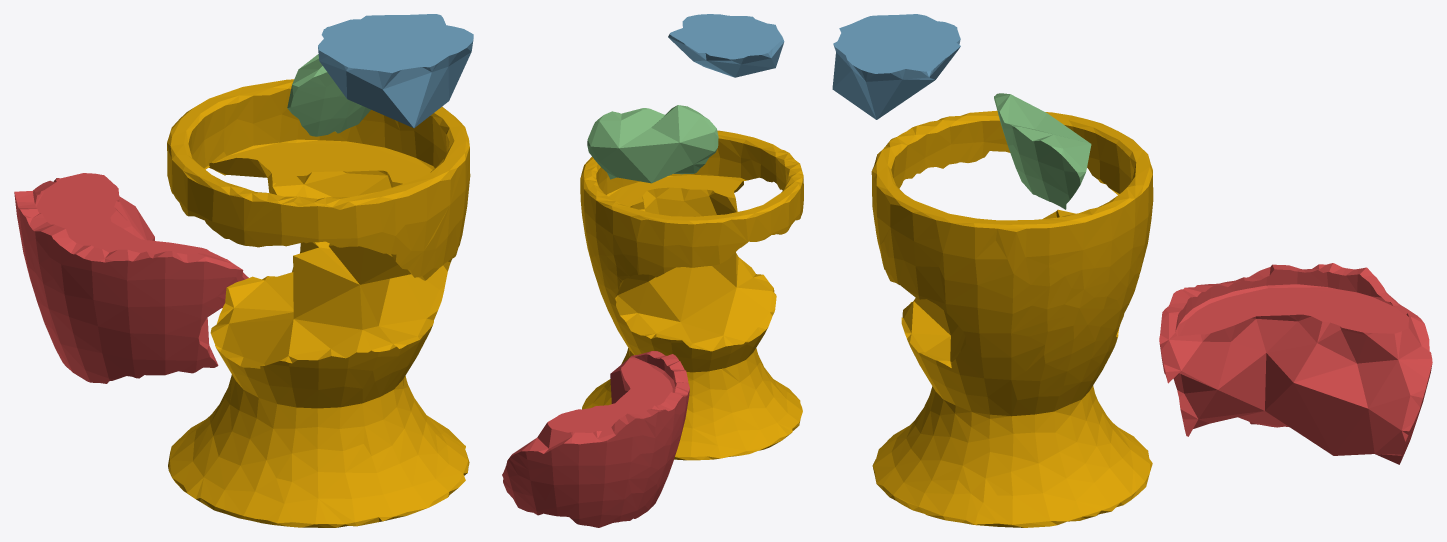
The model's file is mode_16_4pcs_transformed.glb.
The picture shows the model from 3 angles, left to right: view 1: azimuth 30°, elevation 25°; view 2: azimuth 150°, elevation 25°; view 3: azimuth 270°, elevation 25°; orthographic projection. The views are drawn at different scales.
Parts seen in each view (by area): view 1: piece_0.obj, piece_1.obj, piece_2.obj, piece_3.obj; view 2: piece_0.obj, piece_1.obj, piece_3.obj, piece_2.obj; view 3: piece_0.obj, piece_1.obj, piece_2.obj, piece_3.obj.
Part boxes in pixels (x1,y1,x2,y2): piece_0.obj: (167, 79, 470, 527); piece_1.obj: (14, 173, 248, 383); piece_2.obj: (318, 14, 473, 127); piece_3.obj: (287, 54, 370, 136); piece_0.obj: (580, 130, 803, 460); piece_1.obj: (502, 351, 689, 527); piece_3.obj: (587, 105, 718, 183); piece_2.obj: (668, 14, 784, 77); piece_0.obj: (871, 110, 1153, 527); piece_1.obj: (1159, 263, 1432, 464); piece_2.obj: (832, 14, 960, 119); piece_3.obj: (994, 93, 1091, 209).
Size of the model in its own units: 0.8413 by 1.43 by 1.79.
